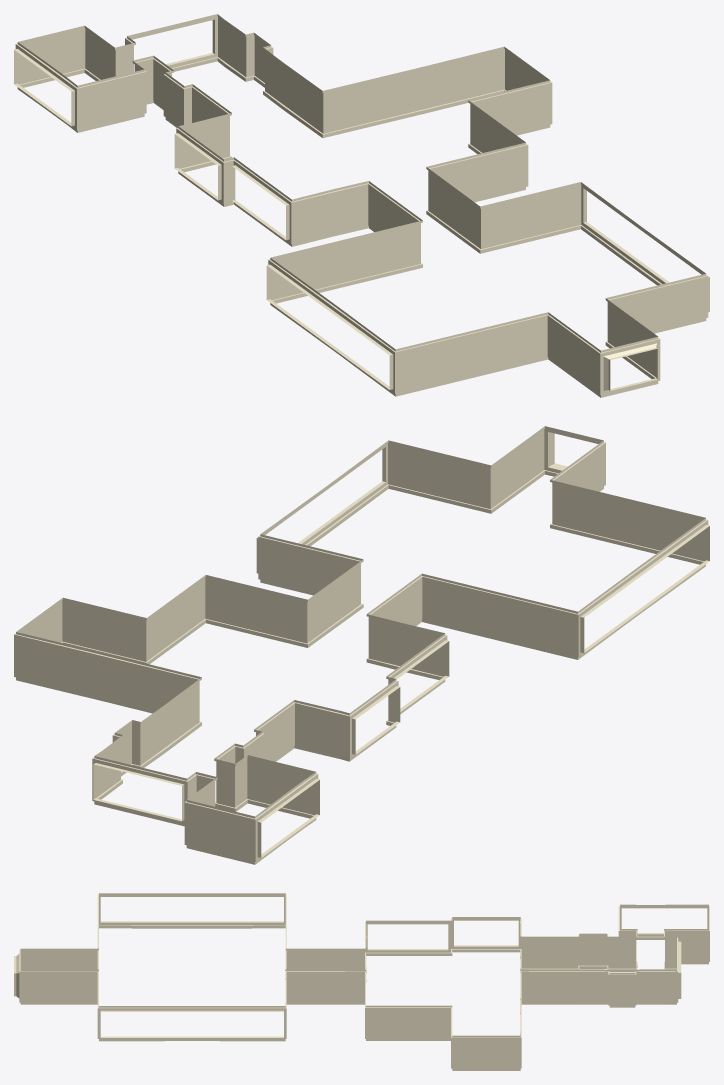
The model's file is Walls01.FBX.
3 views of the same model, one above another, from view 1: azimuth 30°, elevation 25°; view 2: azimuth 150°, elevation 25°; view 3: azimuth 270°, elevation 25° (orthographic). The views are drawn at different scales.
Visible parts, largest first — view 1: Box027; view 2: Box027; view 3: Box027.
Part boxes in pixels (x1=…): Box027: x1=14, y1=14, x2=709, y2=397; Box027: x1=14, y1=426, x2=709, y2=864; Box027: x1=14, y1=893, x2=709, y2=1070.
Size of the model in its own units: 2185 by 248 by 4444.
